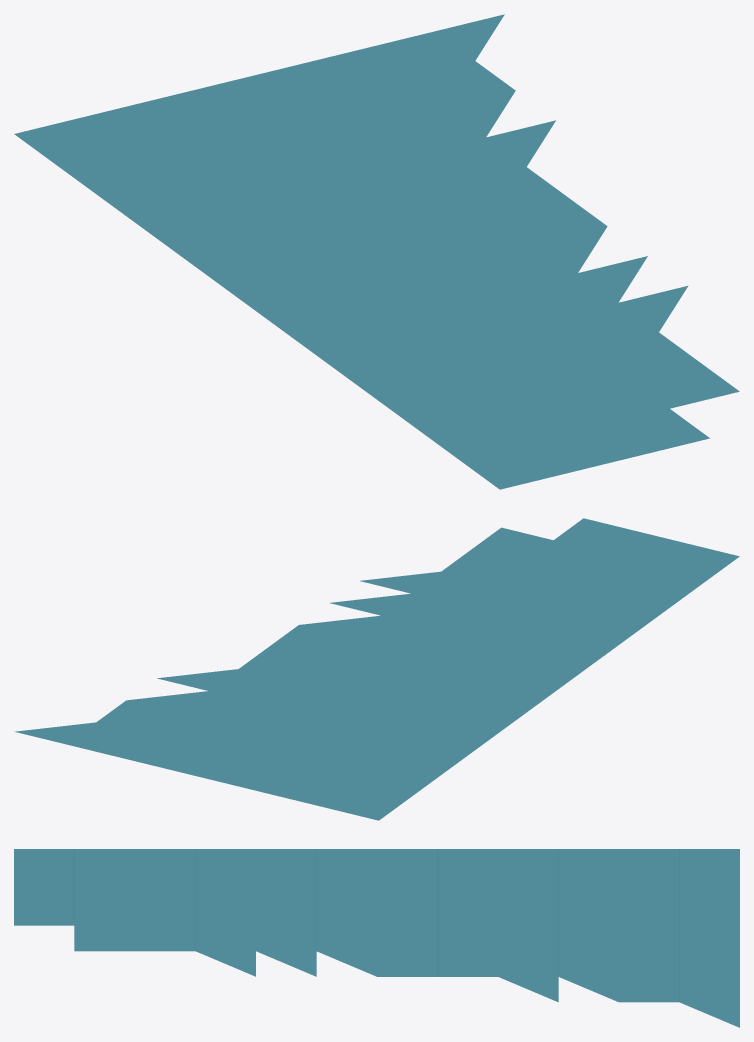
3 renders of one model, top to bottom at view 1: azimuth 30°, elevation 25°; view 2: azimuth 150°, elevation 25°; view 3: azimuth 270°, elevation 25°, orthographic. The views are drawn at different scales.
Visible parts, largest first — view 1: prototype; view 2: prototype; view 3: prototype.
Part boxes in pixels (x1,y1,x2,y2): prototype: (14,14,739,489); prototype: (14,518,739,820); prototype: (14,849,739,1027).
Size of the model in its own units: 14 by 0 by 24.
